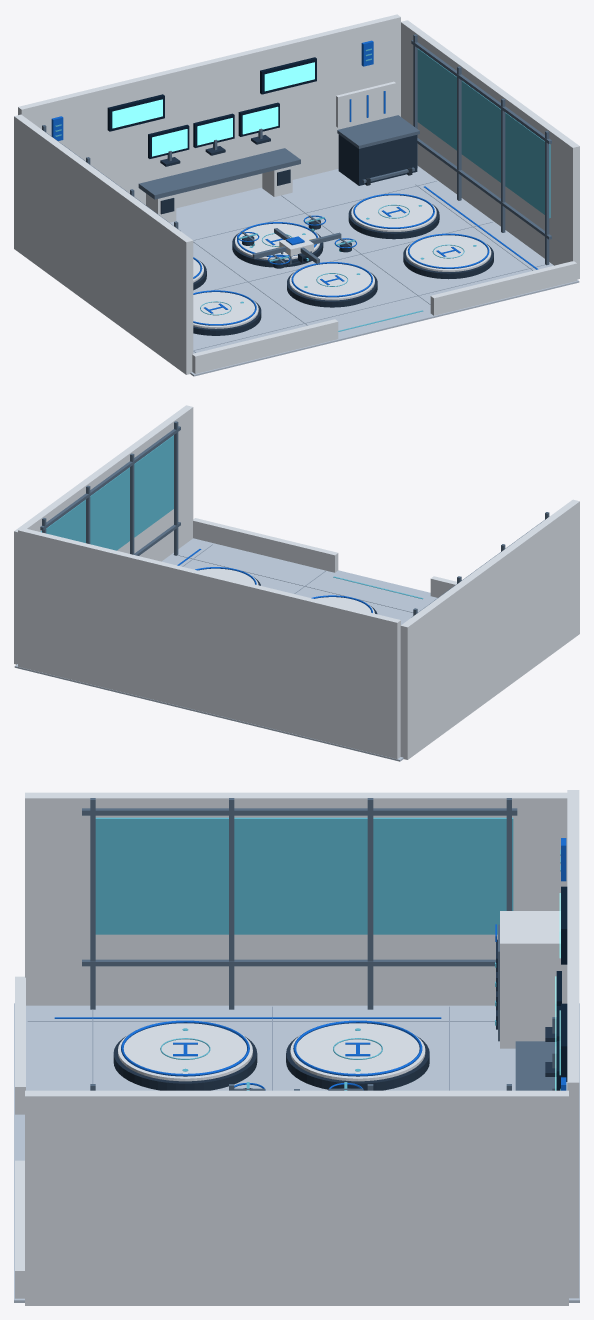
Rendered from drone-assignment-room.glb.
3 renders of one model, top to bottom at view 1: azimuth 30°, elevation 25°; view 2: azimuth 150°, elevation 25°; view 3: azimuth 270°, elevation 25°, orthographic. The views are drawn at different scales.
Parts seen in each view (by area): view 1: ROOM_SHELL, FLIGHT_OPERATIONS_CONSOLE, MAINTENANCE_BENCH, WALL_STATUS_PANELS, PAD_06, PAD_02, PAD_03, PAD_01, PAD_05, DRONE_TEMPLATE, FLOOR_JOINTS; view 2: ROOM_SHELL, PAD_02, PAD_03; view 3: ROOM_SHELL, PAD_01, PAD_04, CHARGING_BANK, FLIGHT_OPERATIONS_CONSOLE, WALL_STATUS_PANELS, FLOOR_JOINTS.
Part boxes in pixels (x1,y1,x2,y2): ROOM_SHELL: [14, 14, 579, 376]; FLIGHT_OPERATIONS_CONSOLE: [138, 102, 300, 222]; MAINTENANCE_BENCH: [336, 81, 419, 185]; WALL_STATUS_PANELS: [51, 40, 373, 140]; PAD_06: [348, 193, 439, 239]; PAD_02: [287, 262, 377, 307]; PAD_03: [403, 233, 493, 279]; PAD_01: [193, 290, 261, 335]; PAD_05: [232, 222, 323, 267]; DRONE_TEMPLATE: [237, 215, 356, 268]; FLOOR_JOINTS: [193, 181, 545, 352]; ROOM_SHELL: [14, 405, 579, 761]; PAD_02: [311, 595, 377, 613]; PAD_03: [195, 567, 260, 585]; ROOM_SHELL: [14, 790, 579, 1305]; PAD_01: [113, 1020, 257, 1090]; PAD_04: [286, 1020, 429, 1090]; CHARGING_BANK: [495, 911, 561, 1048]; FLIGHT_OPERATIONS_CONSOLE: [515, 971, 561, 1090]; WALL_STATUS_PANELS: [559, 838, 567, 1090]; FLOOR_JOINTS: [27, 1006, 494, 1090].
Bounding box in the file's own units: 13.2 × 4.42 × 10.4.
